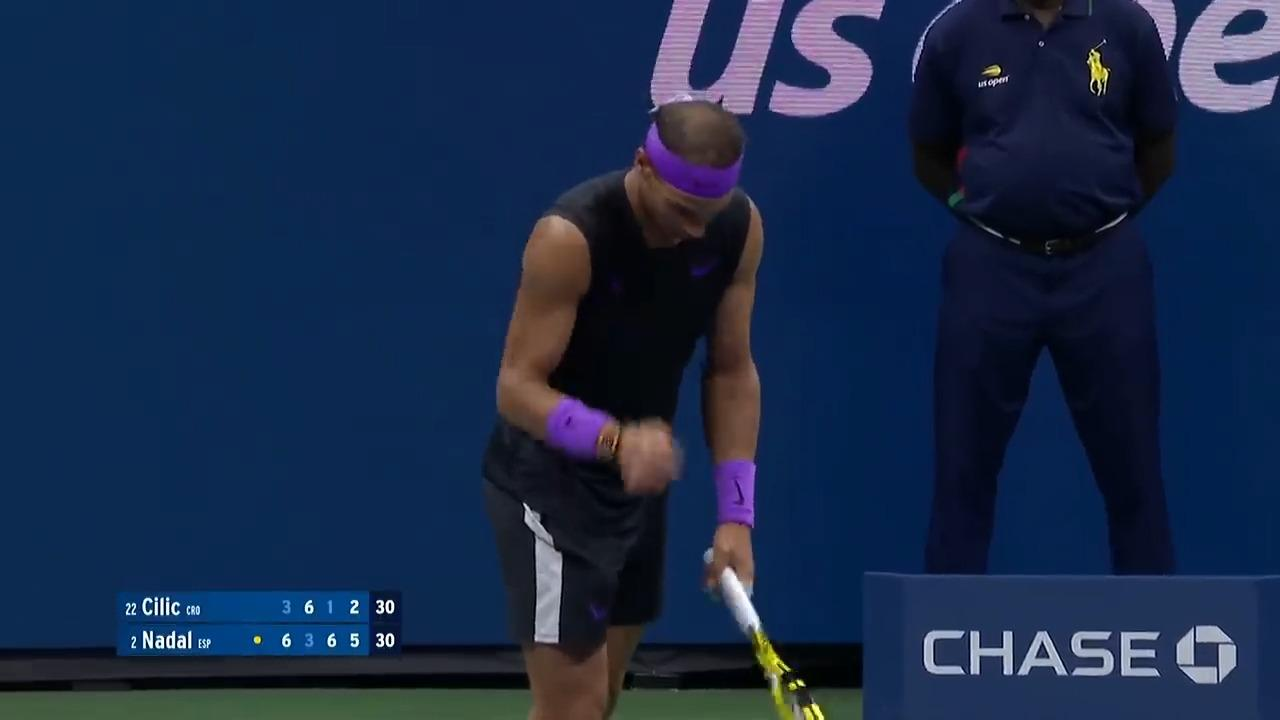tennis racket: (719, 567, 825, 720)
